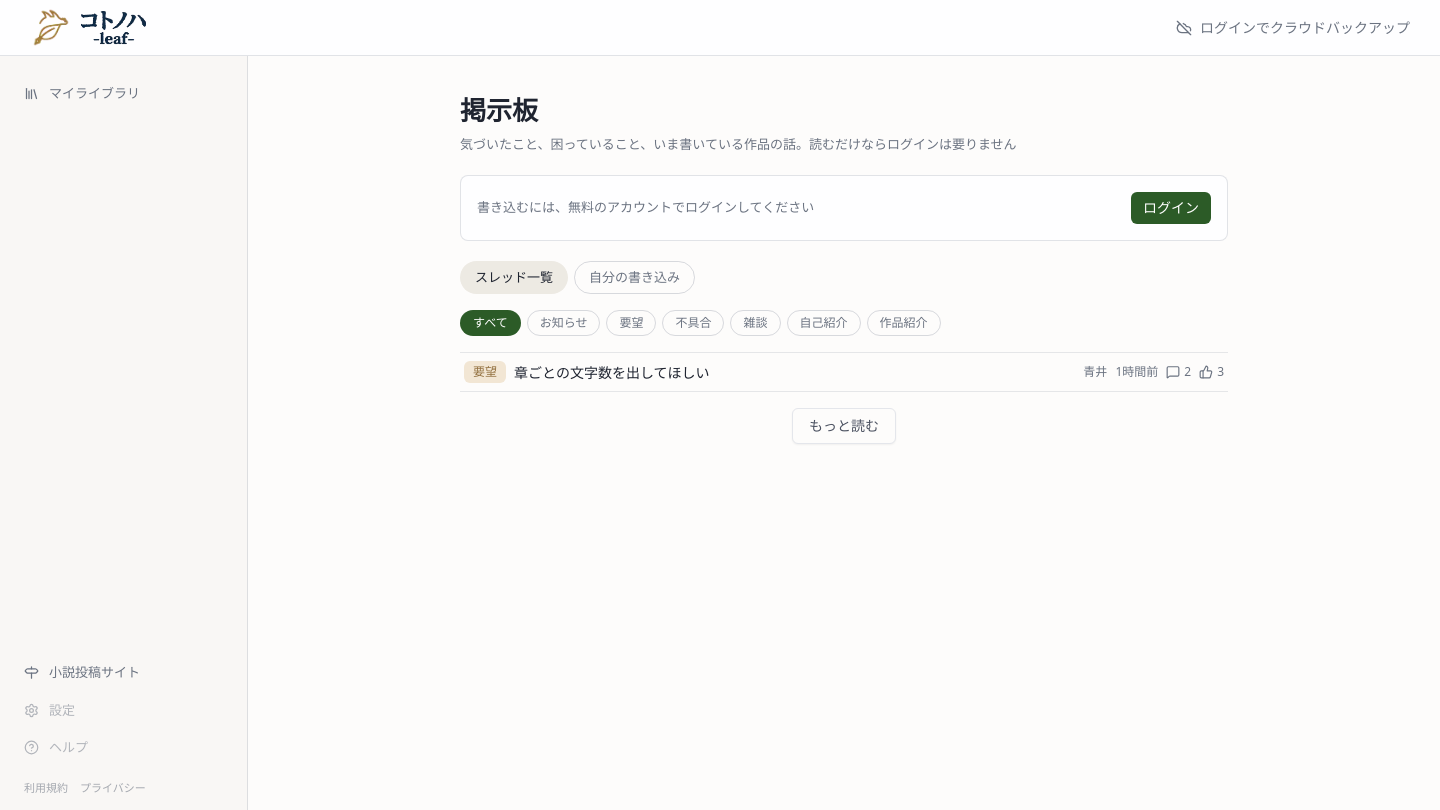
Test: BoardPage（掲示板の一覧） › nextCursor があるときだけ「もっと読む」を出し、押すと続きを足す
The width and height of the screenshot is (1440, 810).
Click the button "もっと読む".
click(844, 426)  # box x1=792 y1=408 x2=896 y2=444
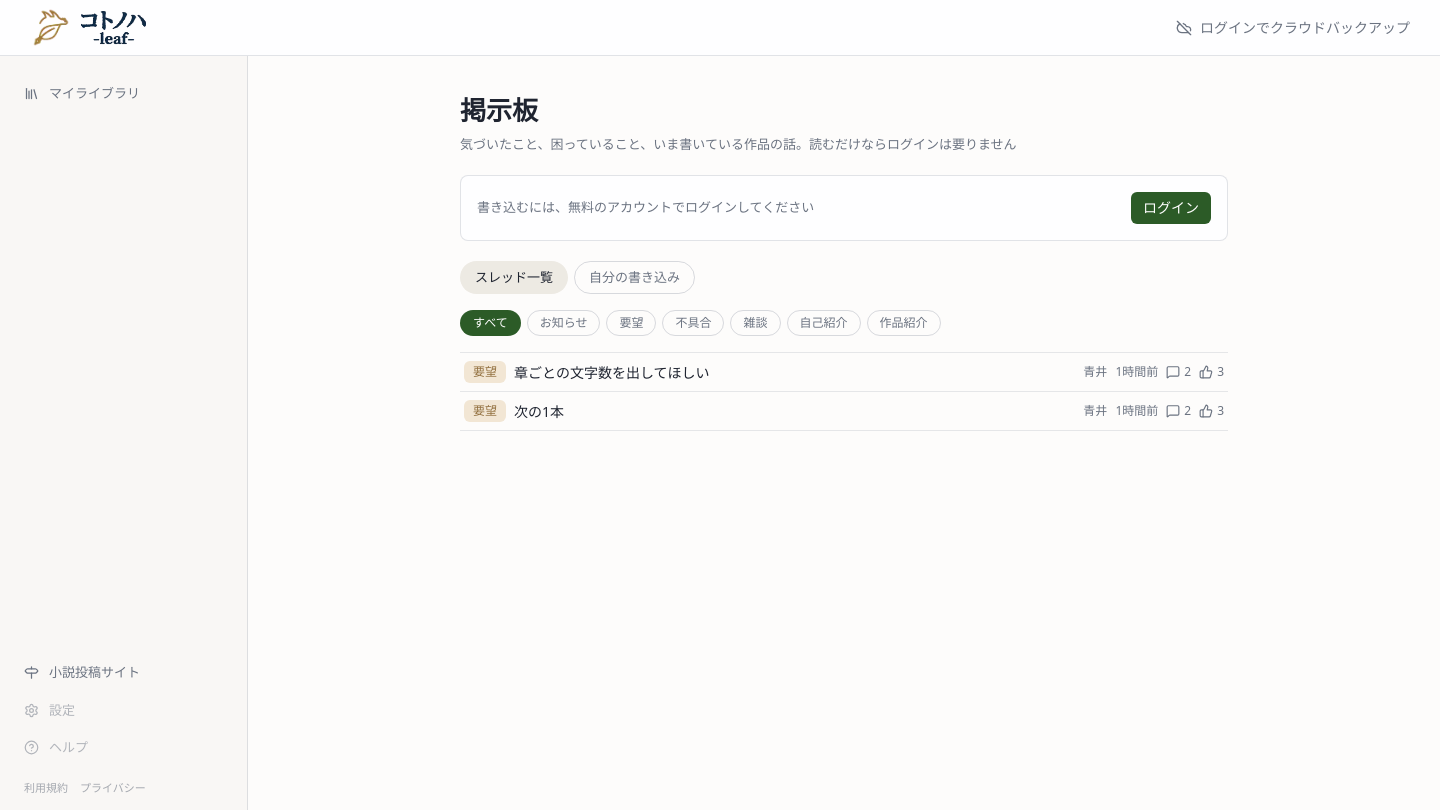
Expected: the heading "次の1本" is shown, x1=514 y1=402 x2=564 y2=420
Expected: the button "もっと読む" is gone
